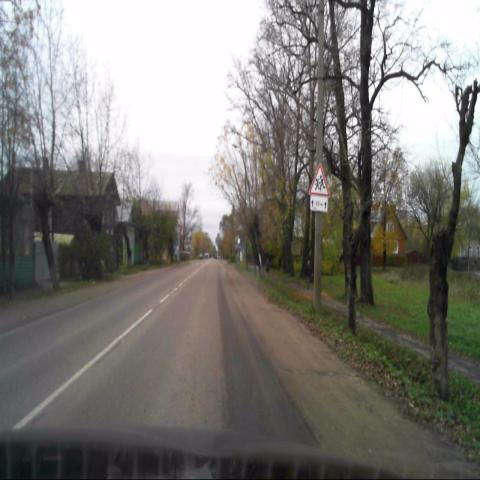1_23: (308, 163, 329, 195)
8_2_1: (310, 196, 328, 212)
